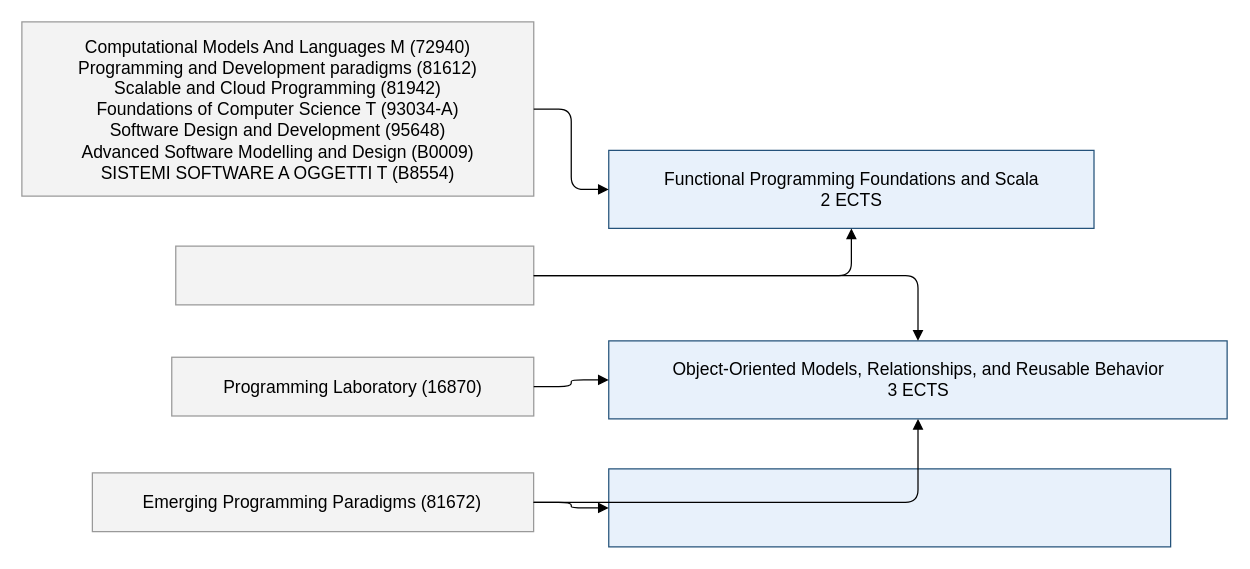
The diagram is 1250 pixels wide and 569 high, and some of its shapes have lost their labels. Each missing label, with the centre of its shape:
Advanced Types, Effects, Certification, and Concurrency 4 ECTS: [889,507]
Programming Languages (04138): [354,275]
